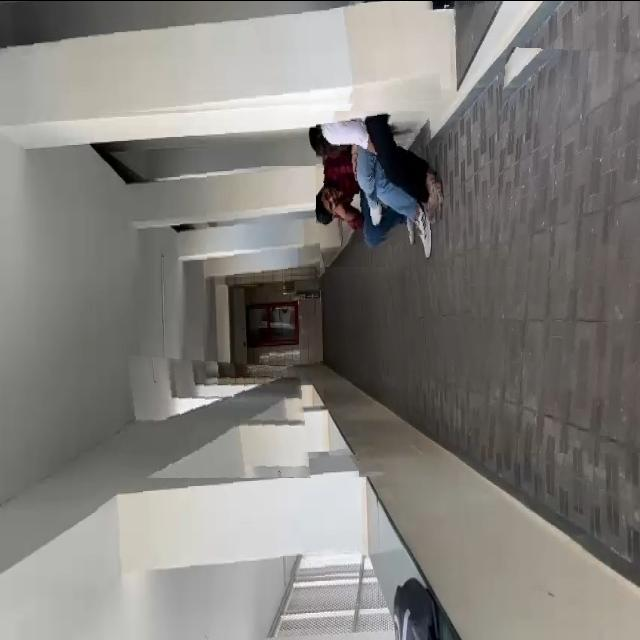floor: (471, 46, 640, 452), (325, 266, 477, 368)
moving_object: (316, 110, 442, 242)
wall: (0, 0, 442, 116), (77, 451, 361, 581), (126, 353, 312, 477), (166, 165, 320, 280)
